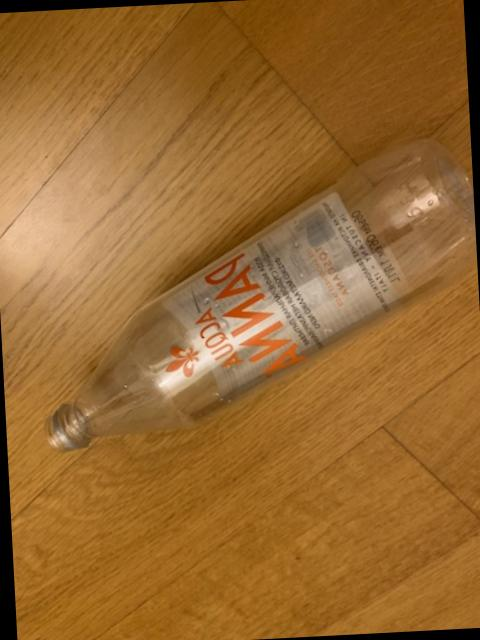plastic: (44, 142, 475, 452)
